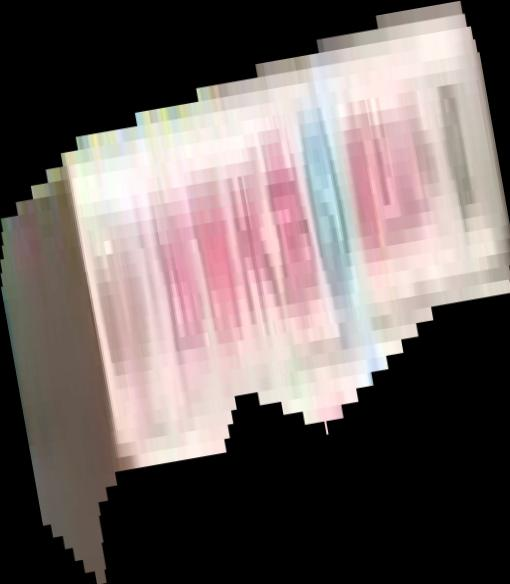flat: (1, 1, 510, 584)
